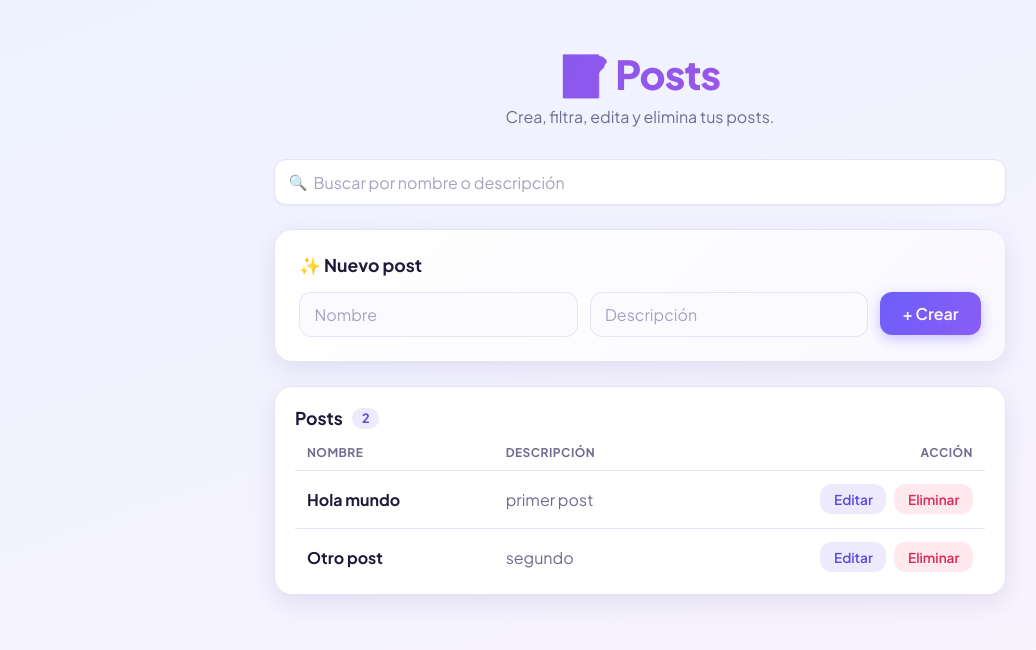
Test: App › edits a post via the inline edit form
Expected: the text "Hola mundo" is shown, [295,470,494,529]
Click the button "Editar" in the row of "Hola mundo": x=853, y=499 [820,484,886,514]
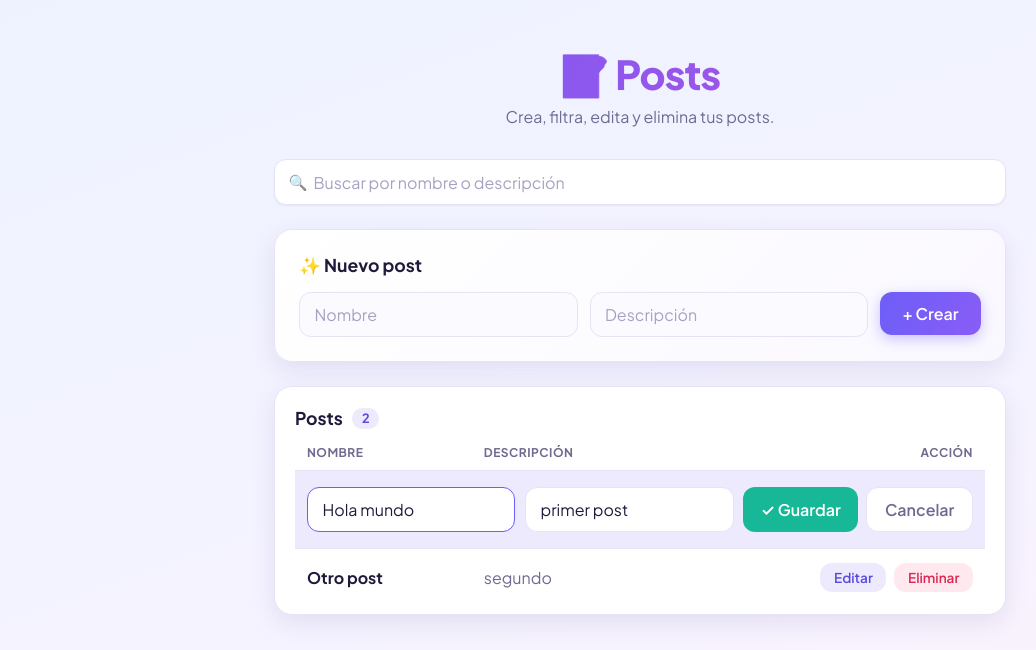
Replace the text in the field named "Editar nombre de Hola mundo" with "Hola actualizado": x=411, y=509 [307,487,516,532]
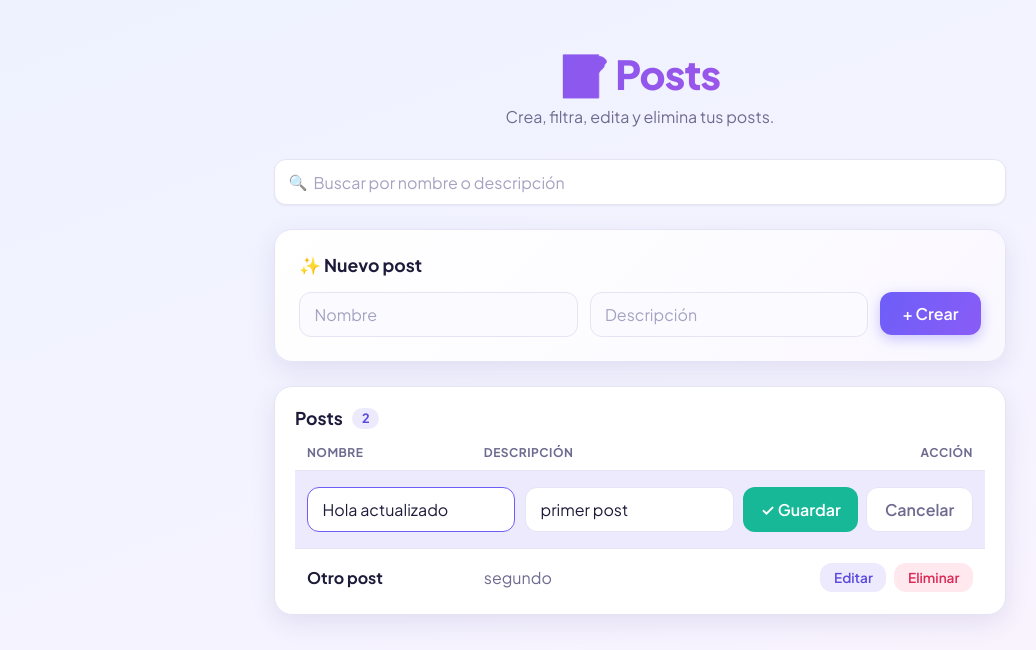
Click the button "✓ Guardar": x=801, y=509 [743,487,858,532]
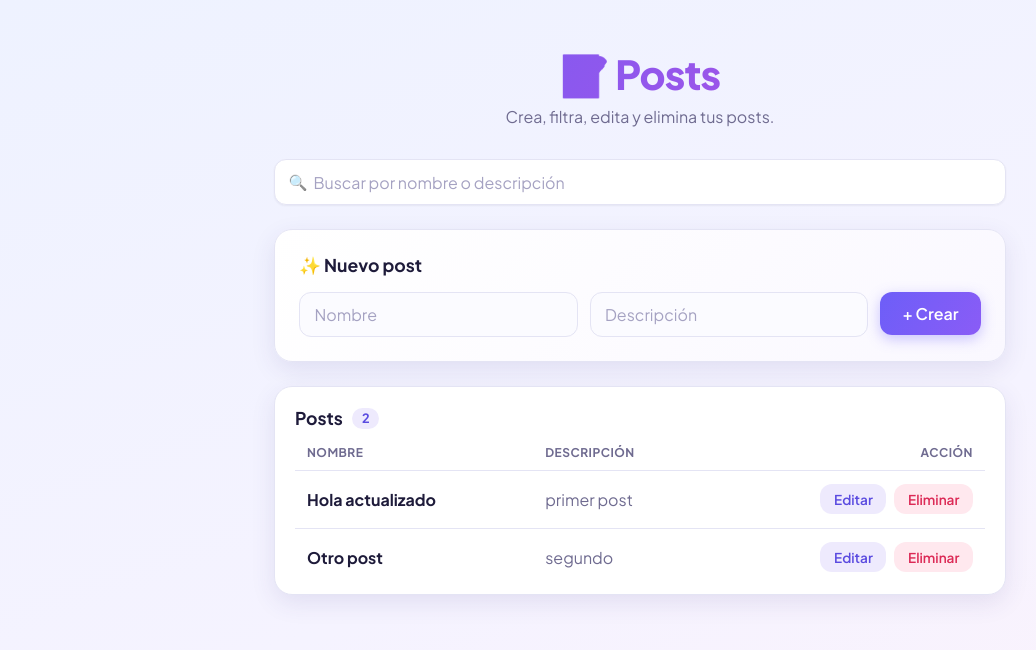
Expected: the text "Hola mundo" is not shown
Now the text "Hola actualizado" is shown, box [295,470,533,529]
